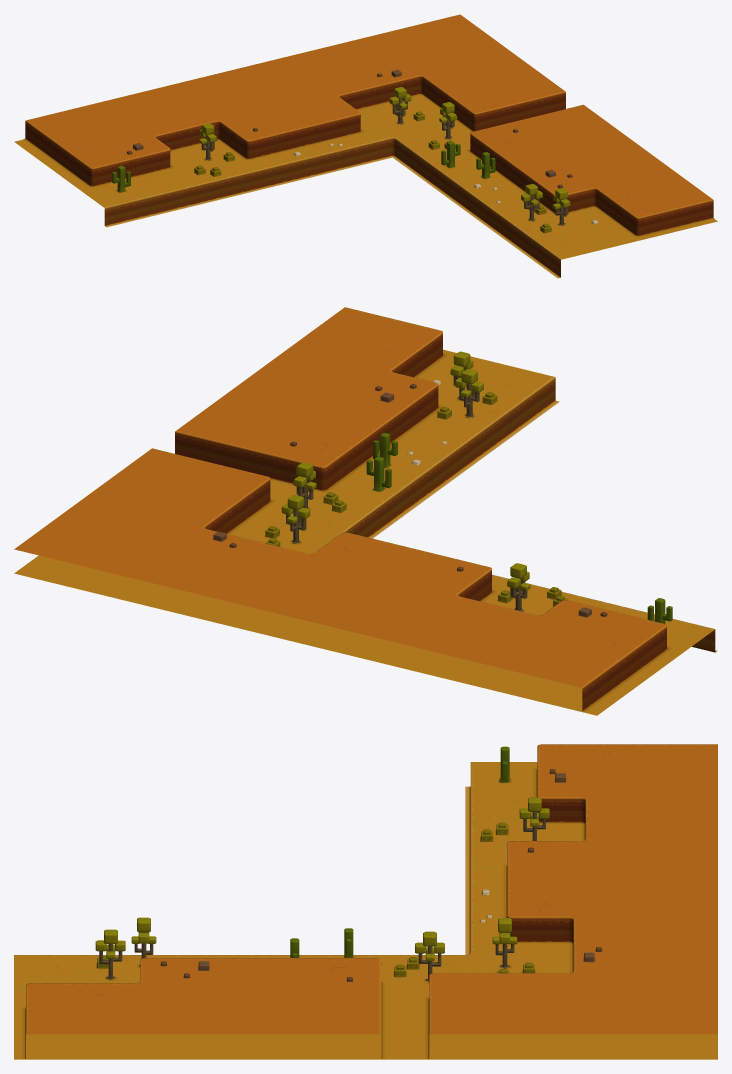
Rendered from C_mountain1_out_LD.fbx.
The picture shows the model from 3 angles, top to bottom: view 1: azimuth 30°, elevation 25°; view 2: azimuth 150°, elevation 25°; view 3: azimuth 270°, elevation 25°; orthographic projection. The views are drawn at different scales.
Visible parts, largest first — view 1: C_mountain1_out_LD; view 2: C_mountain1_out_LD; view 3: C_mountain1_out_LD.
Boxes of the visible parts, x1,y1,x2,y2 form: C_mountain1_out_LD: [14, 14, 717, 278]; C_mountain1_out_LD: [14, 307, 717, 715]; C_mountain1_out_LD: [14, 744, 717, 1059].
Size of the model in its own units: 117 by 13.14 by 117.
